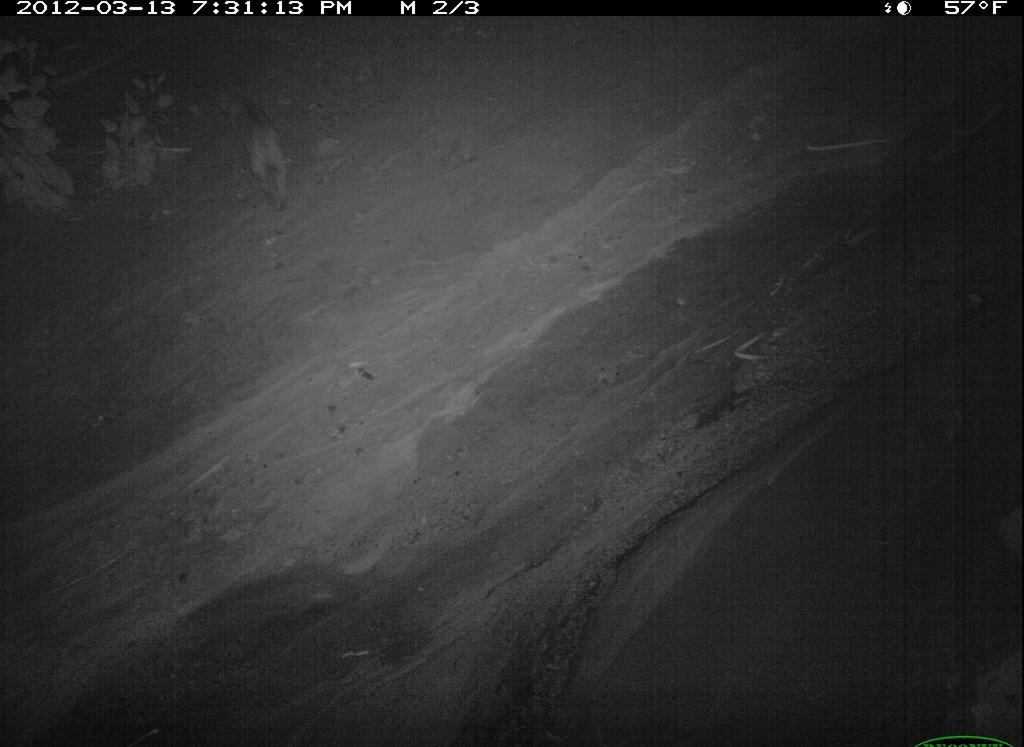bobcat: (410, 167, 605, 441)
